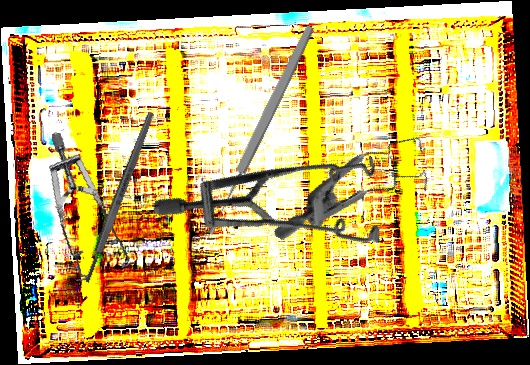Scalpel Handle: (81, 111, 157, 284)
Speculum: (150, 73, 416, 320), (271, 98, 448, 290), (21, 131, 159, 293)
Surgical Spoon: (203, 23, 317, 237)
